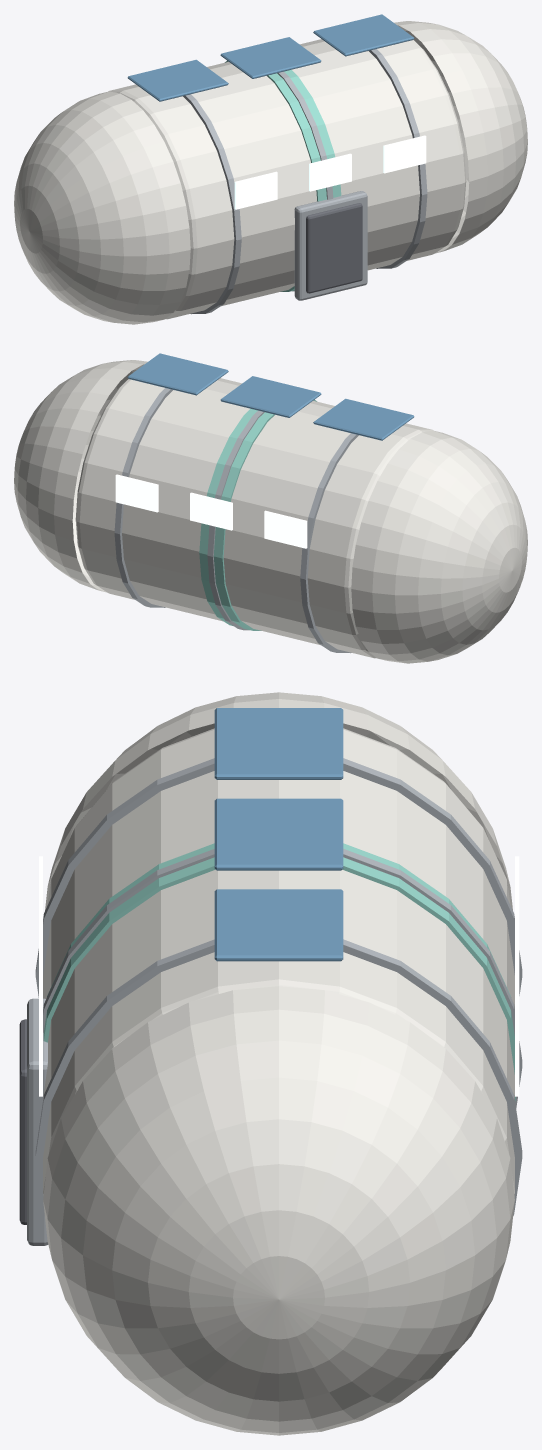
Rendered from habitat.glb.
3 views of the same model, one above another, from view 1: azimuth 30°, elevation 25°; view 2: azimuth 150°, elevation 25°; view 3: azimuth 270°, elevation 25° (orthographic). The views are drawn at different scales.
Visible parts, largest first — view 1: habitat_hull, dome_-3, dome_+3, hatch, hatch_frame, radiator_-2, radiator_+0, radiator_+2, habitat_band, seam_-2, seam_+2, window_f0 (+3 smaller); view 2: habitat_hull, dome_-3, dome_+3, habitat_band, radiator_-2, radiator_+0, radiator_+2, seam_-2, seam_+2, seam_+0, window_b0, window_b2 (+1 smaller); view 3: dome_+3, habitat_hull, dome_-3, radiator_+0, radiator_+2, radiator_-2, habitat_band, seam_+2, seam_-2, seam_+0, hatch_frame, hatch.
Part boxes in pixels (bbox=[...]): habitat_hull: bbox=[108, 39, 466, 319]; dome_-3: bbox=[14, 91, 190, 324]; dome_+3: bbox=[394, 21, 527, 253]; hatch: bbox=[306, 203, 362, 293]; hatch_frame: bbox=[294, 191, 367, 300]; radiator_-2: bbox=[127, 59, 228, 101]; radiator_+0: bbox=[220, 37, 321, 78]; radiator_+2: bbox=[313, 14, 414, 56]; habitat_band: bbox=[225, 60, 341, 291]; seam_-2: bbox=[183, 94, 241, 314]; seam_+2: bbox=[369, 49, 427, 268]; window_f0: bbox=[234, 171, 277, 209]; habitat_hull: bbox=[75, 378, 433, 658]; dome_-3: bbox=[351, 430, 527, 663]; dome_+3: bbox=[14, 360, 147, 592]; habitat_band: bbox=[199, 399, 316, 630]; radiator_-2: bbox=[313, 398, 414, 440]; radiator_+0: bbox=[220, 376, 321, 417]; radiator_+2: bbox=[127, 353, 228, 395]; seam_-2: bbox=[300, 433, 358, 653]; seam_+2: bbox=[114, 388, 172, 607]; seam_+0: bbox=[207, 410, 264, 630]; window_b0: bbox=[264, 510, 307, 548]; window_b2: bbox=[115, 474, 158, 512]; dome_+3: bbox=[43, 986, 514, 1435]; habitat_hull: bbox=[43, 728, 514, 1195]; dome_-3: bbox=[45, 692, 512, 910]; radiator_+0: bbox=[214, 798, 343, 870]; radiator_+2: bbox=[214, 889, 343, 961]; radiator_-2: bbox=[214, 708, 343, 779]; habitat_band: bbox=[43, 843, 515, 1101]; seam_+2: bbox=[35, 939, 522, 1215]; seam_-2: bbox=[35, 758, 522, 997]; seam_+0: bbox=[43, 849, 522, 1108]; hatch_frame: bbox=[27, 998, 48, 1245]; hatch: bbox=[19, 1019, 26, 1224].
Size of the model in its own units: 10.4 by 4.66 by 4.69.
